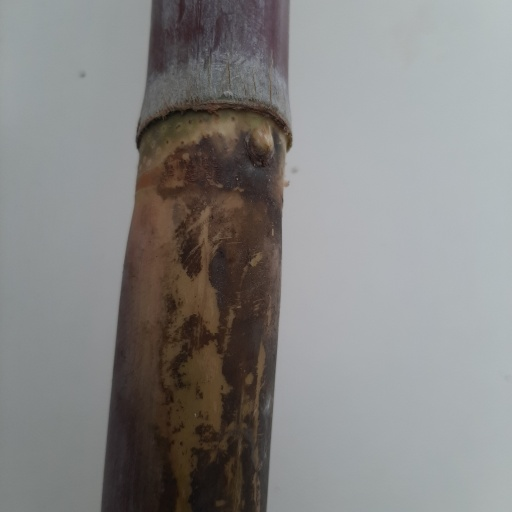Bud: (249, 119, 275, 165)
